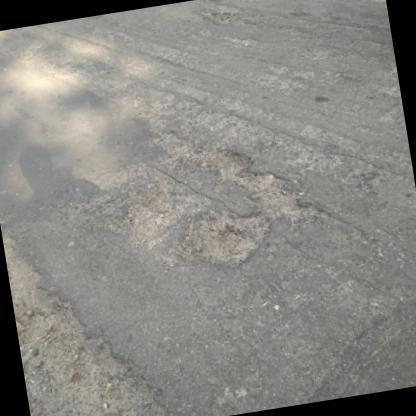pothole: (7, 244, 162, 416), (166, 132, 309, 224), (190, 207, 267, 268)
